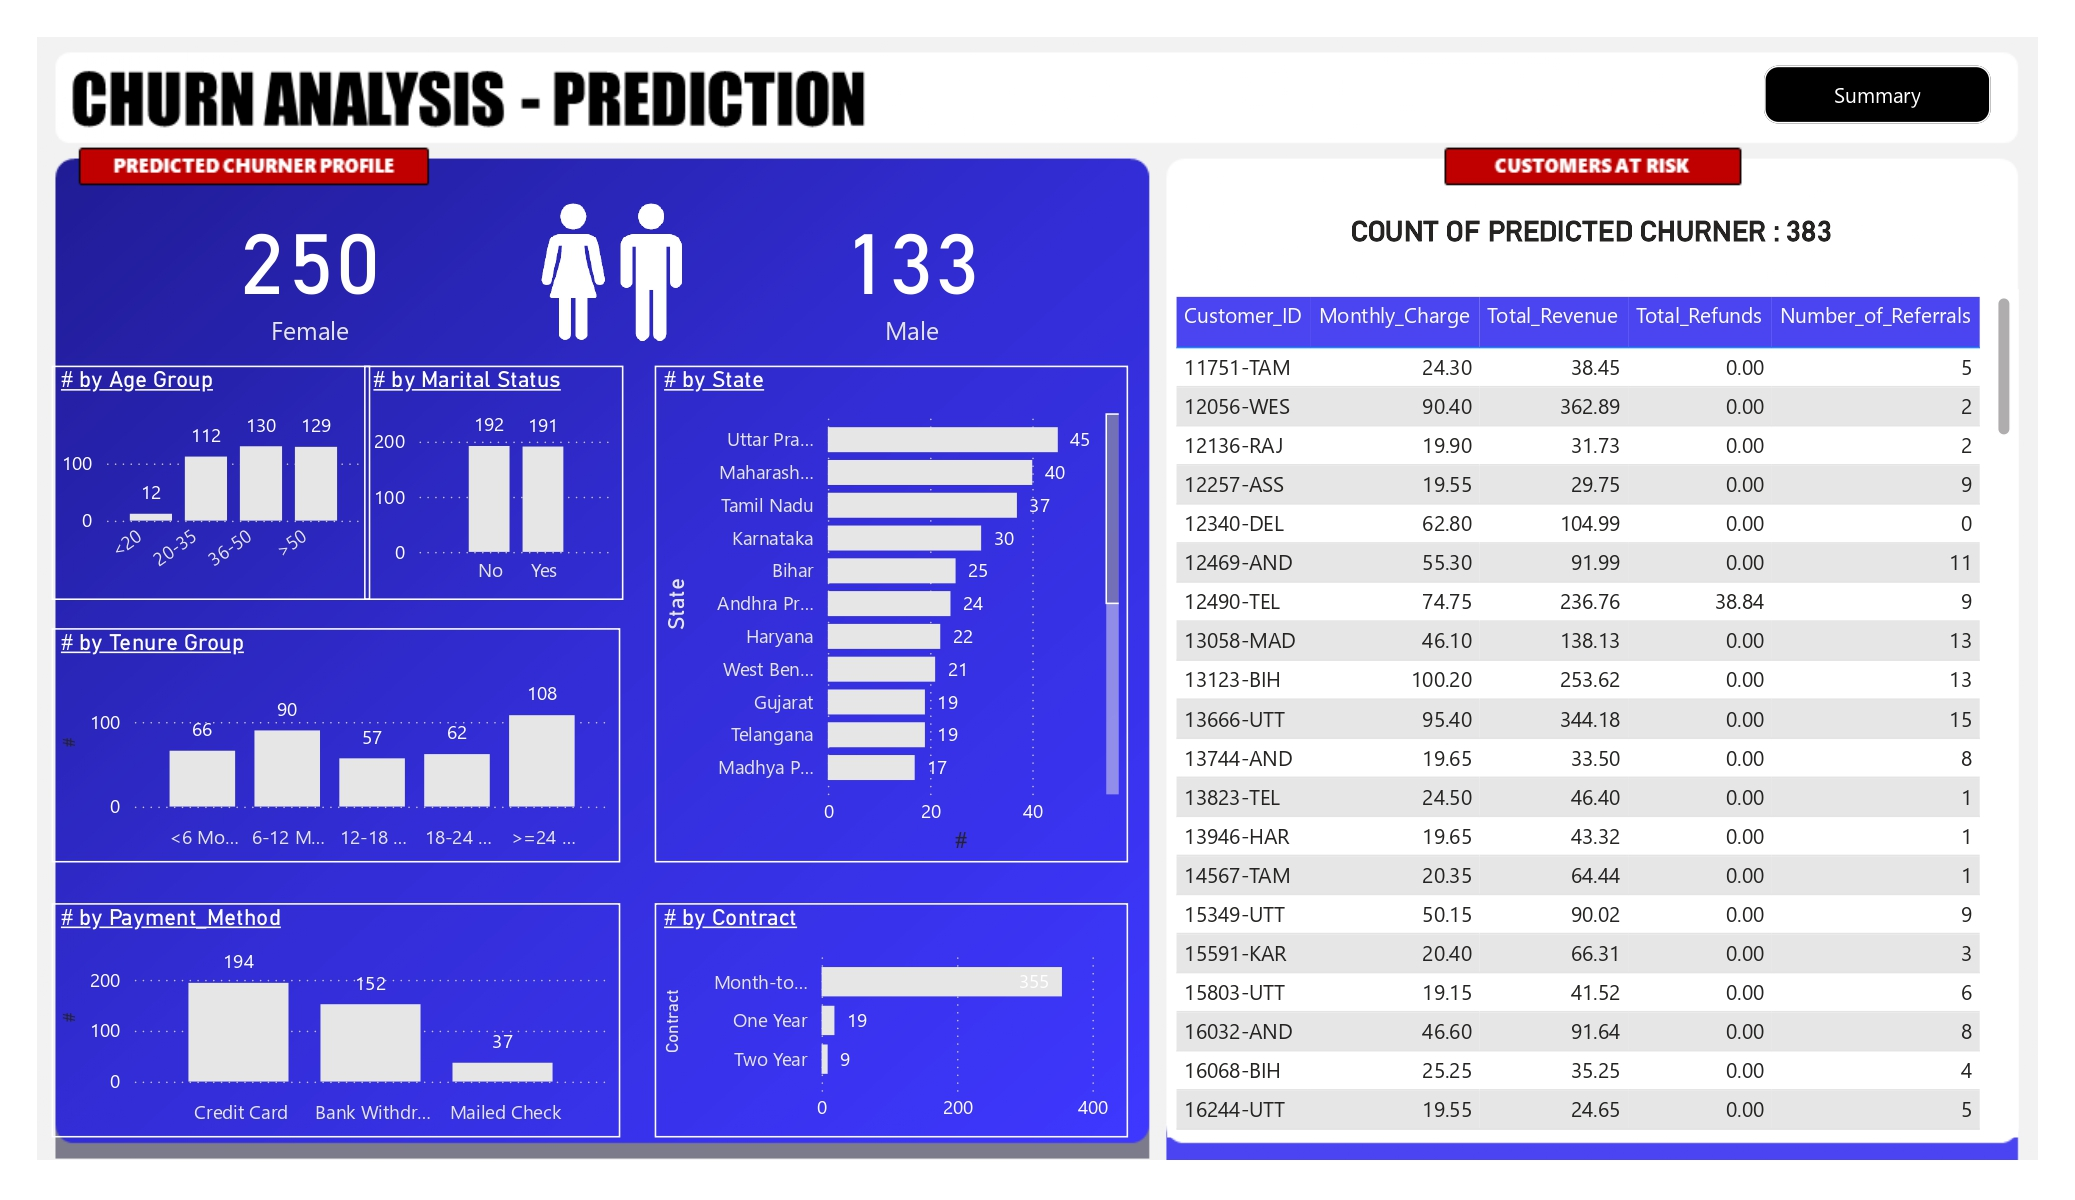

This screenshot's page, from the dashboard's own definition file:
{"tool":"powerbi","page":{"name":"Churn Prediction","canvas":[1280,720],"ordinal":2},"visuals":[{"type":"tableEx","fields":{"Values":["Predictions.Customer_ID","Predictions.Monthly_Charge","Predictions.Total_Revenue","Predictions.Total_Refunds","Predictions.Number_of_Referrals"]},"box":[722.5,161.2,545,542.5],"z":0},{"type":"card","fields":{"Values":["tbl_Measures.Title Predicted Churners"]},"box":[780,87.5,428.8,73.8],"z":1000},{"type":"card","fields":{"Values":["tbl_Measures.Count Predicted Churner"]},"box":[93.8,87.5,161.2,122.5],"z":1001},{"type":"card","fields":{"Values":["tbl_Measures.Count Predicted Churner"]},"box":[478.8,87.5,161.2,122.5],"z":1002},{"type":"clusteredColumnChart","fields":{"Category":["mapping_AgeGrp.Age Group"],"Y":["CountNonNull(Predictions.Customer_ID)"]},"box":[8.8,210,203.8,150],"z":1003},{"type":"clusteredColumnChart","fields":{"Y":["CountNonNull(Predictions.Customer_ID)"],"Category":["Predictions.Married"]},"box":[208.8,210,166.2,150],"z":1004},{"type":"clusteredColumnChart","fields":{"Y":["CountNonNull(Predictions.Customer_ID)"],"Category":["mapping_TenureGrp.Tenure Group"]},"box":[8.8,377.5,363.8,150],"z":1005},{"type":"clusteredColumnChart","fields":{"Y":["CountNonNull(Predictions.Customer_ID)"],"Category":["Predictions.Payment_Method"]},"box":[8.8,553.8,363.8,150],"z":1006},{"type":"clusteredBarChart","fields":{"Category":["Predictions.Contract"],"Y":["CountNonNull(Predictions.Customer_ID)"]},"box":[395,553.8,302.5,150],"z":1007},{"type":"clusteredBarChart","fields":{"Y":["CountNonNull(Predictions.Customer_ID)"],"Category":["Predictions.State"]},"box":[395,210,302.5,317.5],"z":1008},{"type":"image","box":[291.9,87.5,150,122.5],"z":1009},{"type":"shape","box":[1105,17.5,145,37.5],"z":1010}]}

Visuals, with their boxes in screenshot pixels (x1, y1, x2, y2):
tableEx - Predictions.Customer_ID x Predictions.Monthly_Charge: 1166/289/2018/1137
card - tbl_Measures.Title Predicted Churners: 1256/174/1926/290
card - tbl_Measures.Count Predicted Churner: 184/174/436/366
card - tbl_Measures.Count Predicted Churner: 786/174/1038/366
clusteredColumnChart - mapping_AgeGrp.Age Group x CountNonNull(Predictions.Customer_ID): 51/366/370/600
clusteredColumnChart - CountNonNull(Predictions.Customer_ID) x Predictions.Married: 364/366/623/600
clusteredColumnChart - CountNonNull(Predictions.Customer_ID) x mapping_TenureGrp.Tenure Group: 51/627/620/862
clusteredColumnChart - CountNonNull(Predictions.Customer_ID) x Predictions.Payment_Method: 51/903/620/1137
clusteredBarChart - Predictions.Contract x CountNonNull(Predictions.Customer_ID): 655/903/1127/1137
clusteredBarChart - CountNonNull(Predictions.Customer_ID) x Predictions.State: 655/366/1127/862
image: 494/174/728/366
shape: 1764/65/1991/123
